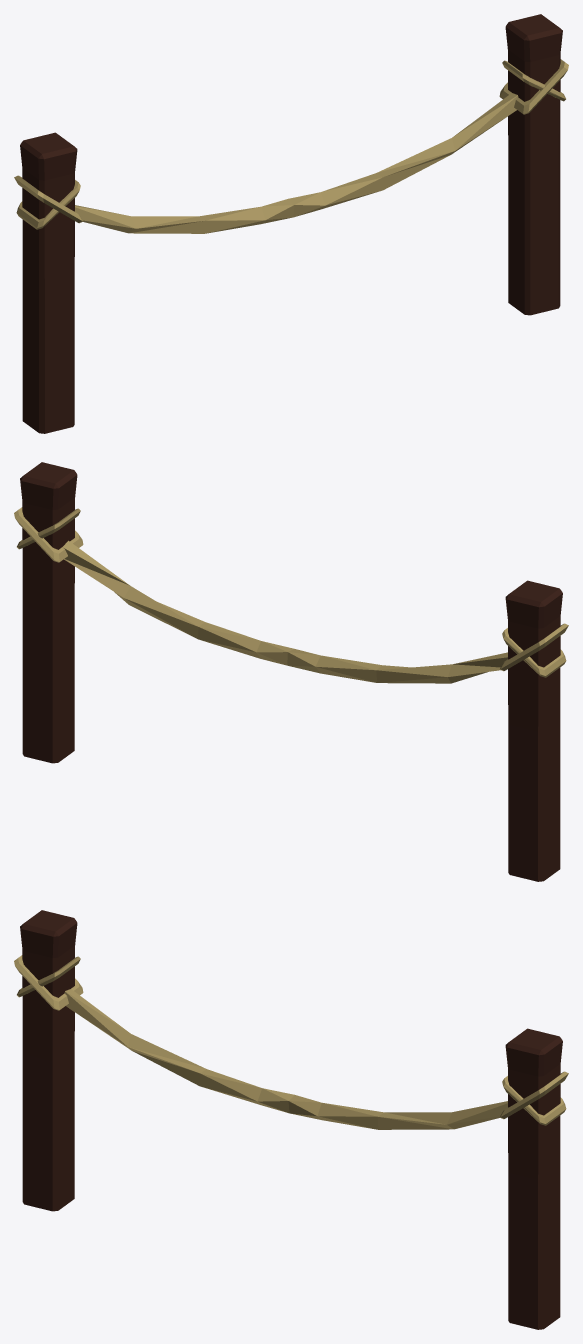
Rendered from Fence_1_1  Asia.fbx.
The picture shows the model from 3 angles, top to bottom: view 1: azimuth 30°, elevation 25°; view 2: azimuth 150°, elevation 25°; view 3: azimuth 330°, elevation 25°; orthographic projection.
Visible parts, largest first — view 1: Fence_1_1; view 2: Fence_1_1; view 3: Fence_1_1.
Boxes of the visible parts, x1,y1,x2,y2 form: Fence_1_1: [14, 14, 568, 433]; Fence_1_1: [14, 462, 568, 881]; Fence_1_1: [14, 910, 568, 1329].
Size of the model in its own units: 1.79 by 0.9003 by 0.1639.
